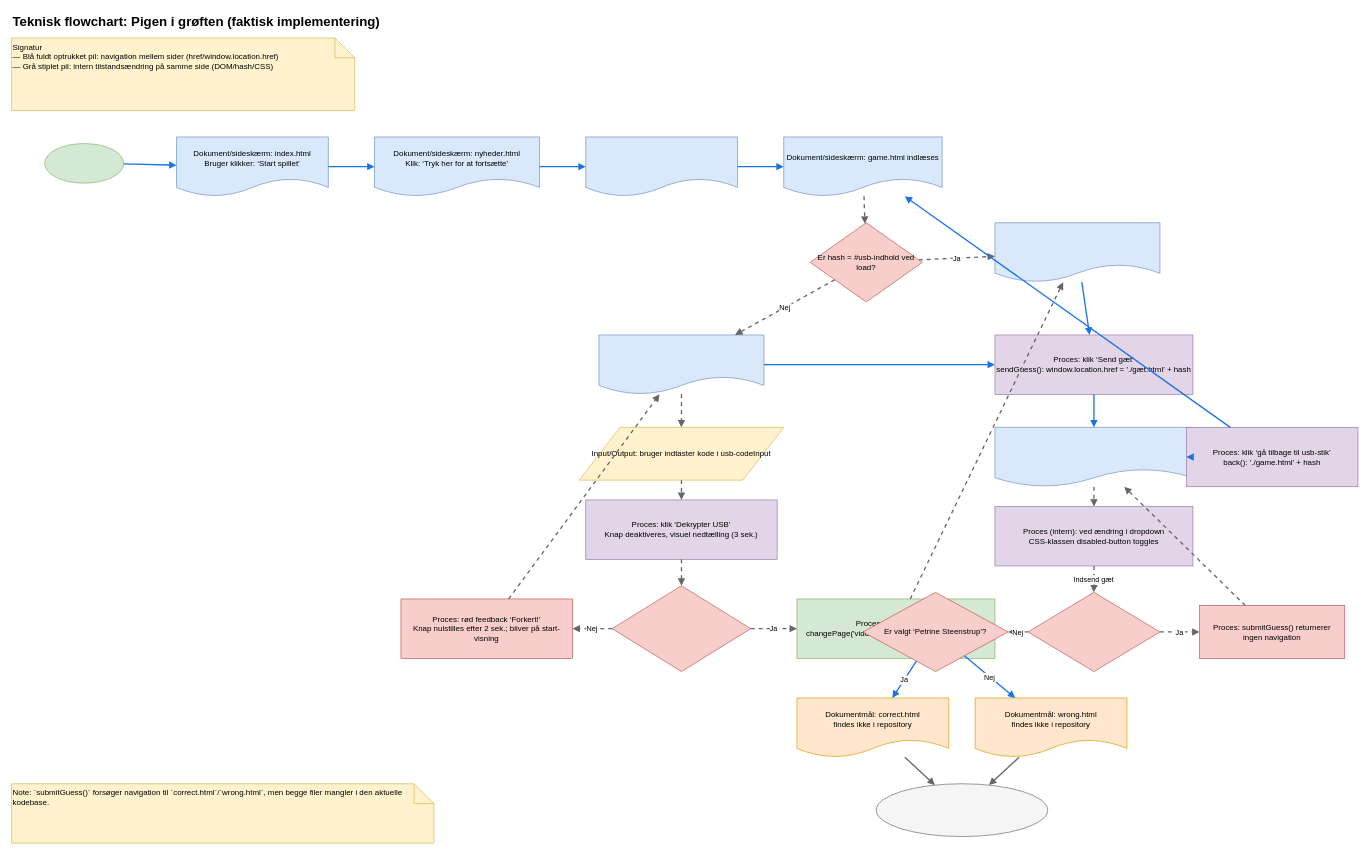
The diagram is 1370 pixels wide and 855 high, and some of its shapes have lost their labels. The box of each missing label's shape, as (x1, y1, x2, y2) in pixels:
Dokument/sideskærm: game.html start-visning (kodeinput synligt): (598, 334, 764, 394)
Dokument/sideskærm: game.html video-visning (start skjules): (994, 222, 1160, 282)
Dokument/sideskærm: gæt.html Valgmenu + ‘Indsend gæt’ + ‘gå tilbage’: (994, 427, 1193, 487)
Dokument/sideskærm: intro.html Klik: ‘Åben kuvert’: (585, 136, 738, 196)
Er kode præcist ‘KOM HJEM’?: (611, 585, 751, 672)
Er valgt værdi ‘vælg’?: (1027, 592, 1160, 672)
Slut (forløb fortsætter kun hvis manglende sider oprettes): (875, 783, 1048, 837)
Start: (44, 143, 124, 183)
